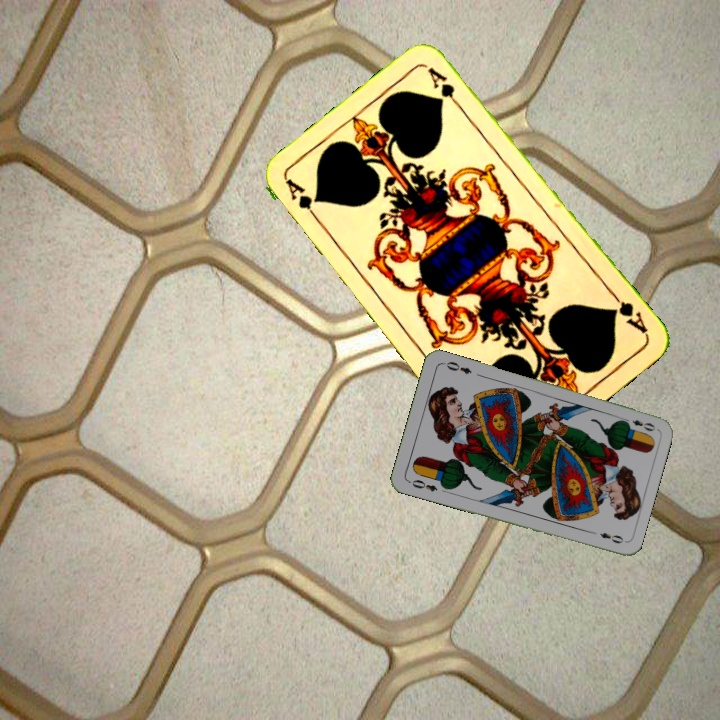EO: (619, 414, 658, 434), (404, 476, 440, 494)
GA: (281, 175, 324, 227), (607, 287, 651, 337)
